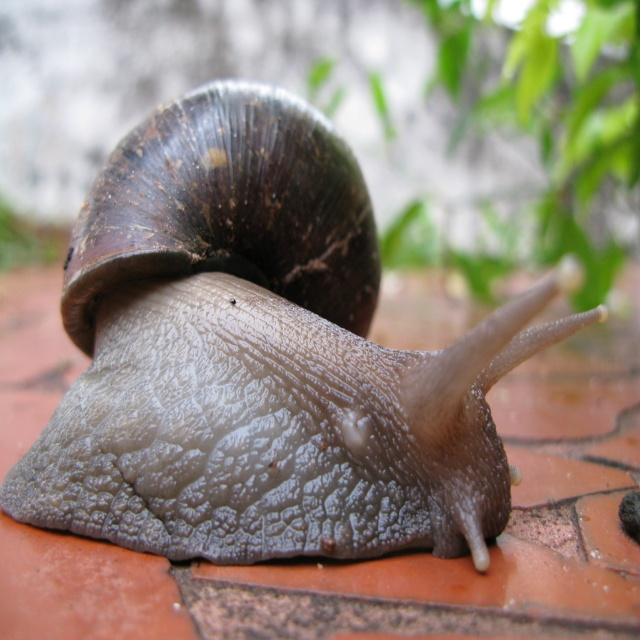Snail: (0, 80, 608, 575)
